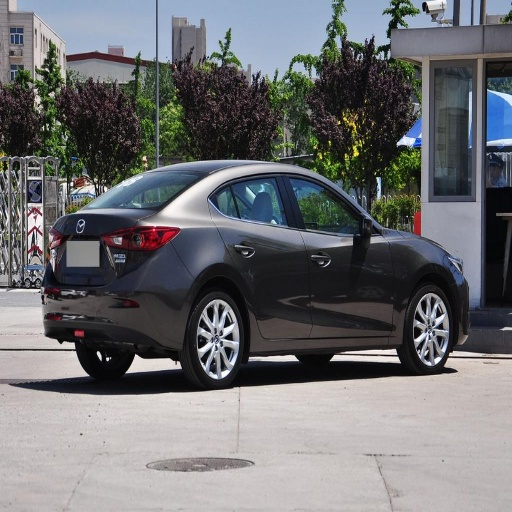_background_: (56, 252, 191, 346)
back_bumper: (98, 166, 203, 210)
back_left_light: (213, 171, 309, 339)
back_right_door: (125, 226, 178, 263)
front_left_light: (287, 172, 394, 337)
right_mirror: (52, 210, 139, 286)
trunk: (186, 287, 248, 387), (403, 284, 454, 372), (78, 345, 130, 385)
